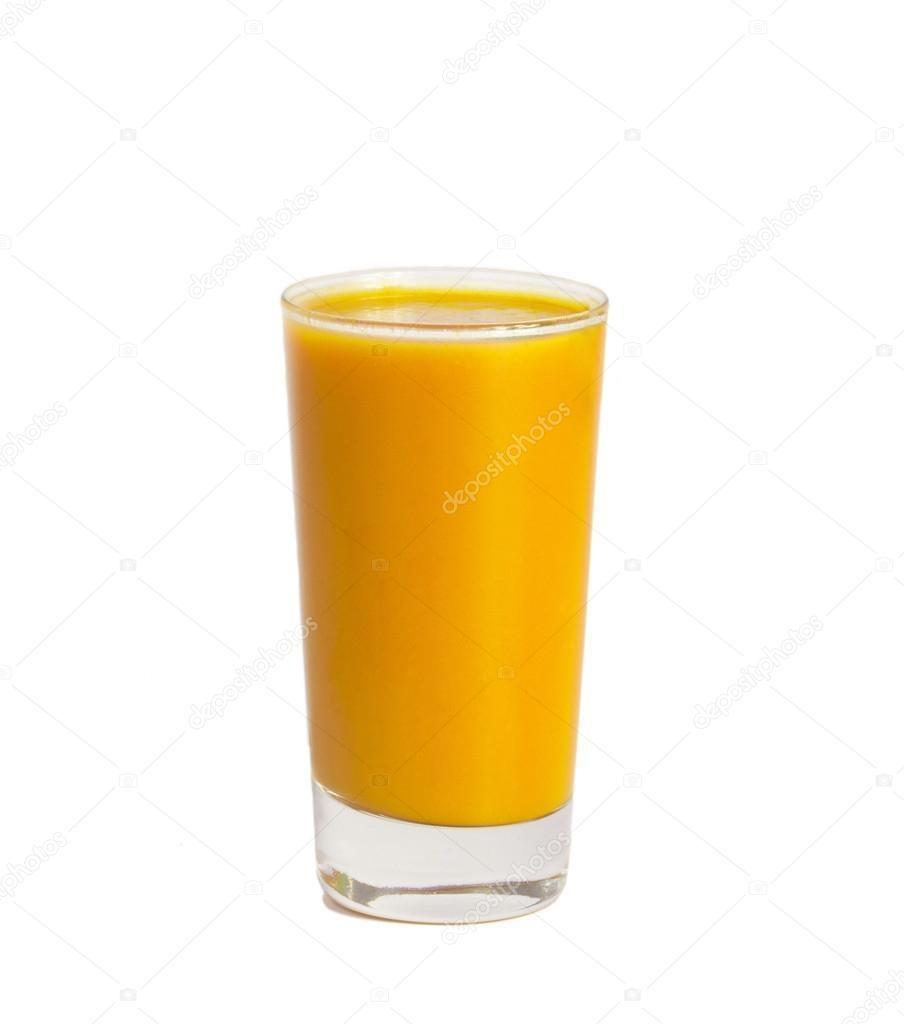glass-normal: (276, 258, 612, 929)
